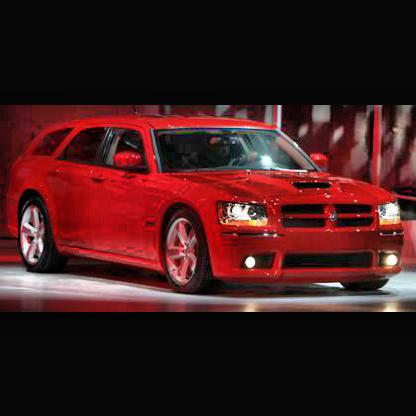Dodge Magnum Wagon 2008: (5, 114, 406, 296)
